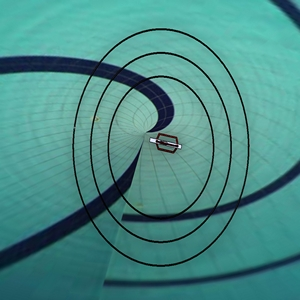circle: (61, 14, 254, 274)
submarine: (139, 123, 189, 162)
